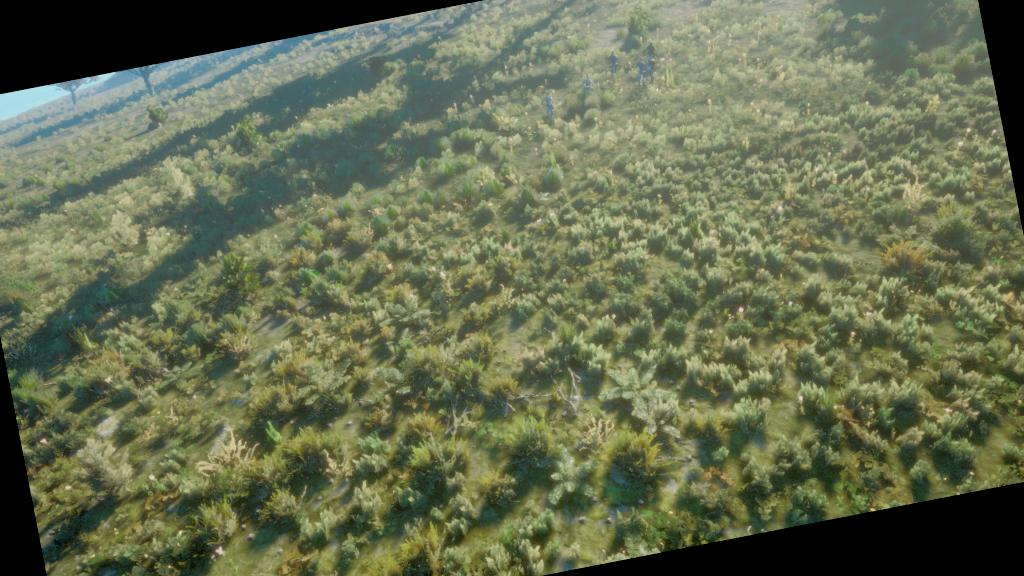human: (626, 34, 673, 90), (532, 80, 568, 132), (574, 65, 602, 104), (602, 43, 626, 82)
